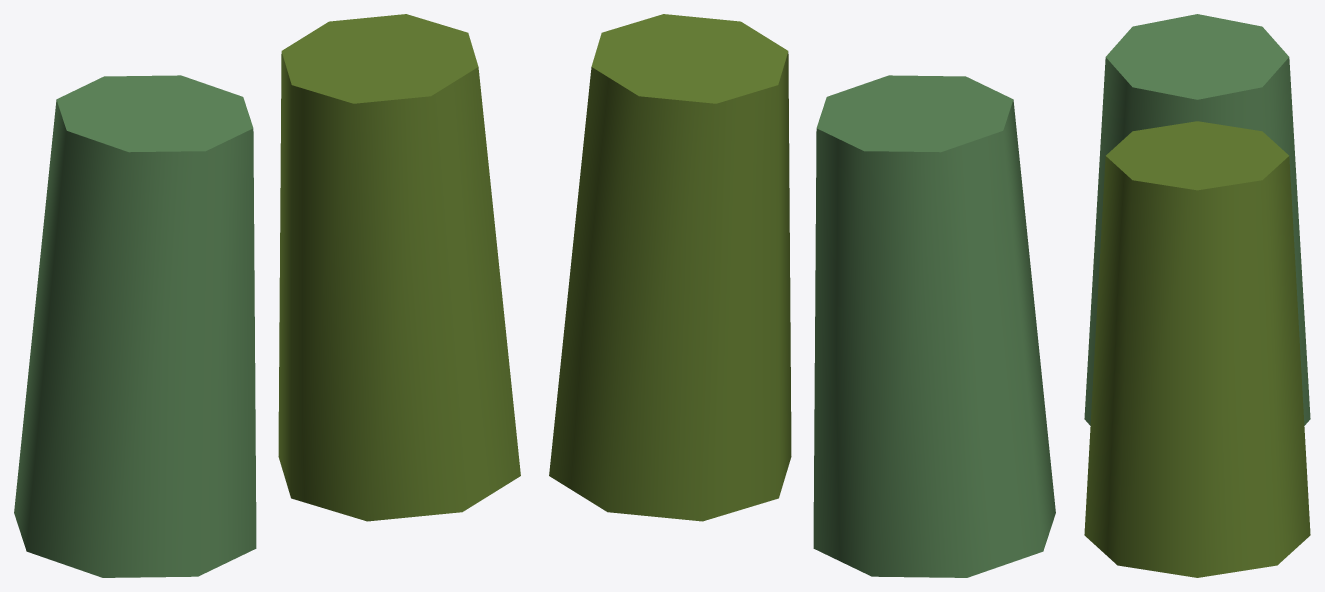
The model's file is legs.glb.
3 renders of one model, left to right at view 1: azimuth 30°, elevation 25°; view 2: azimuth 150°, elevation 25°; view 3: azimuth 270°, elevation 25°, orthographic. The views are drawn at different scales.
Parts seen in each view (by area): view 1: greave_-1, greave_1; view 2: greave_-1, greave_1; view 3: greave_1, greave_-1.
Part boxes in pixels (box(x1,y1,x2,y2)): greave_-1: box(14, 75, 256, 577); greave_1: box(278, 14, 520, 521); greave_-1: box(813, 75, 1055, 577); greave_1: box(549, 14, 791, 521); greave_1: box(1084, 121, 1310, 577); greave_-1: box(1084, 14, 1310, 425).
Size of the model in its own units: 0.7086 by 0.5938 by 0.32.
